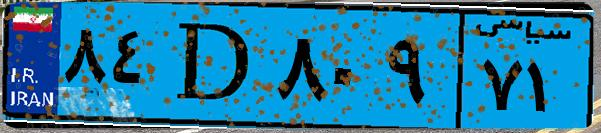0: (330, 28, 385, 110)
1: (525, 38, 570, 115)
4: (110, 28, 158, 98)
7: (475, 38, 525, 113)
8: (270, 28, 330, 110), (57, 26, 110, 100)
9: (385, 28, 445, 110)
D: (158, 12, 270, 120)
